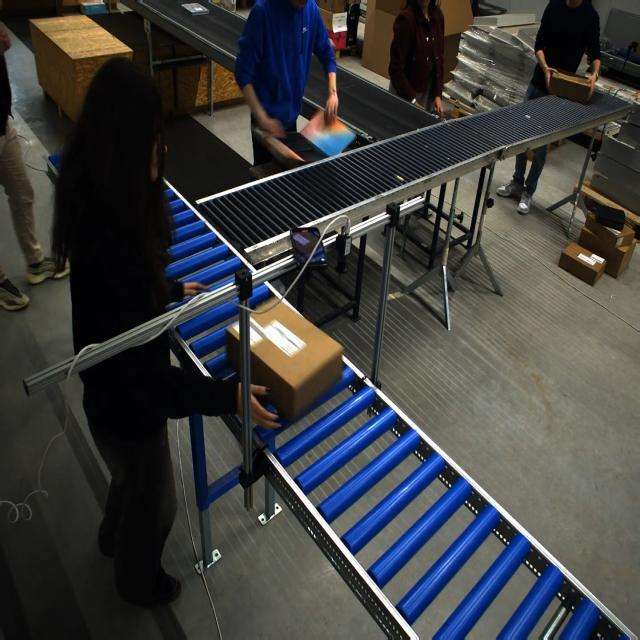box: (227, 297, 338, 421), (547, 68, 594, 105)
product: (181, 2, 211, 15)
